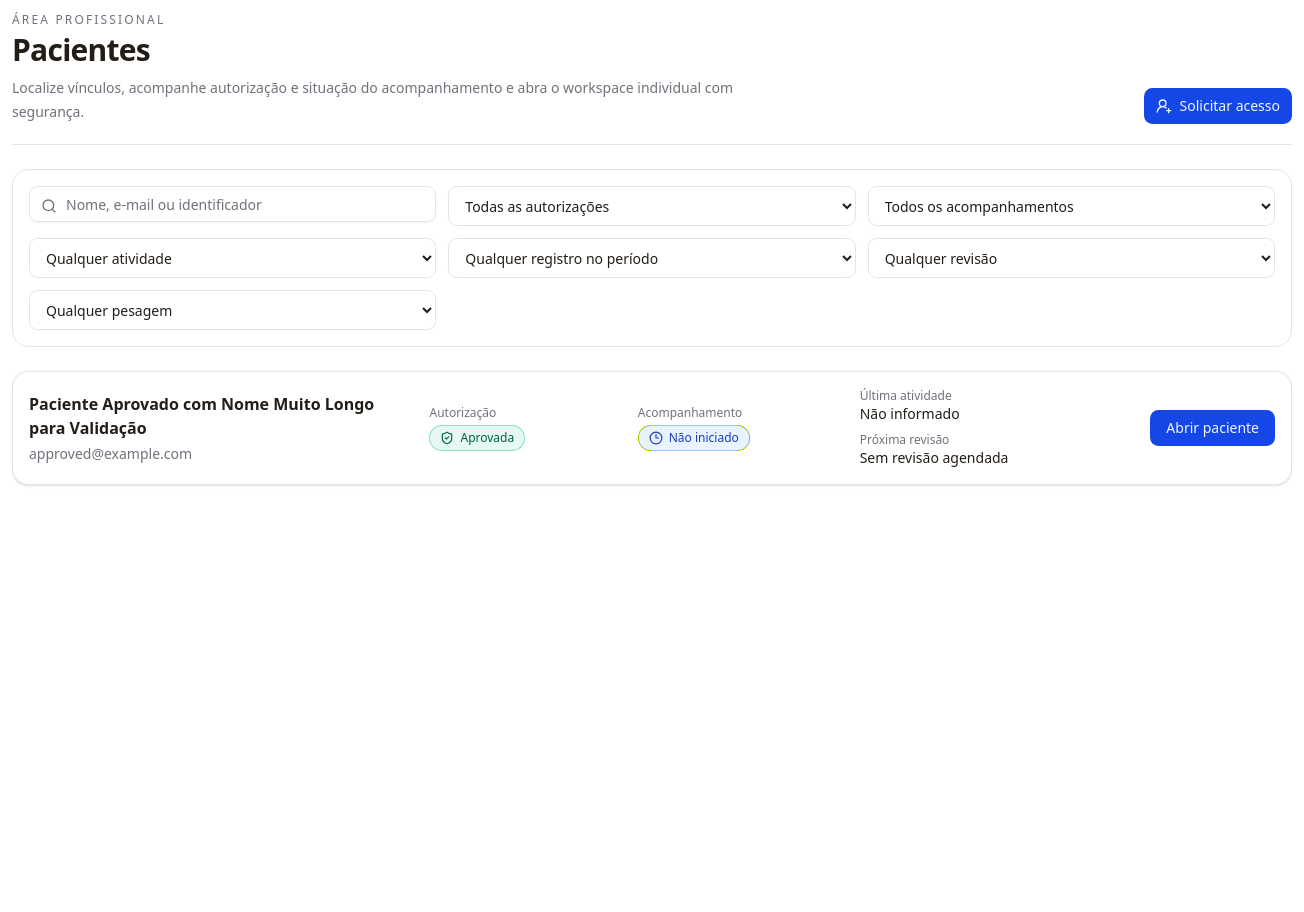
Scenario: ProfessionalPatients patient rows › removes stale patient data when authorization denial and refresh fail
The width and height of the screenshot is (1304, 912).
Click the button "Abrir paciente" at (1213, 428), box [1150,410,1275,446]
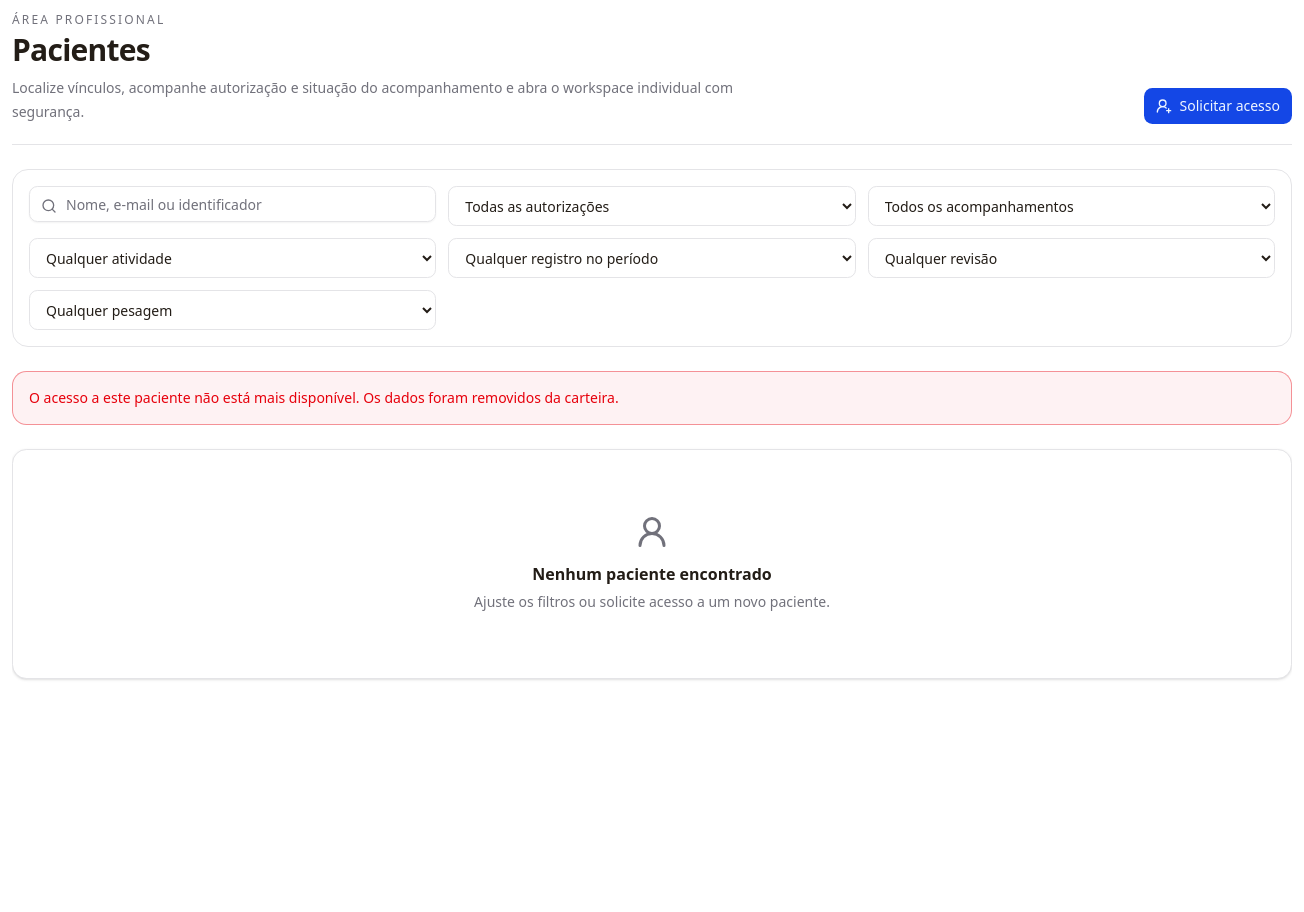
Check: the 1st message shows "O acesso a este paciente não está mais disponível.", box [29,388,619,407]
Check: the heading "Paciente Aprovado com Nome Muito Longo para Validação" is gone
Check: the text "approved@example.com" is gone
